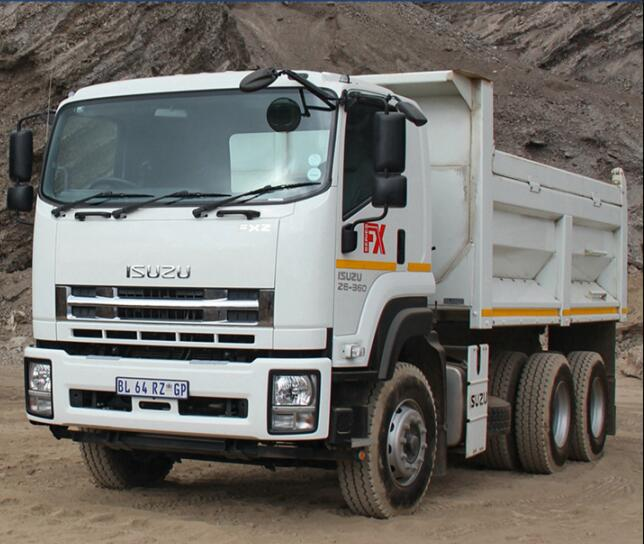truck: (10, 71, 630, 519)
